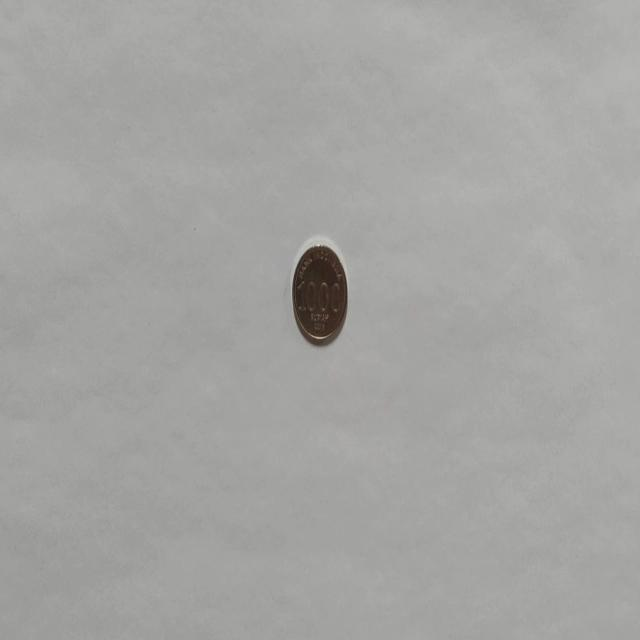seribu rupiah koin: (290, 238, 348, 346)
